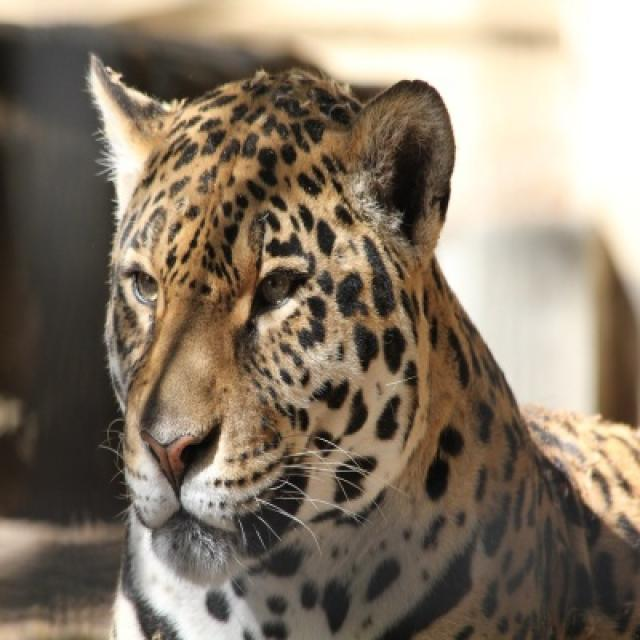Jaguar: (86, 56, 638, 638)
